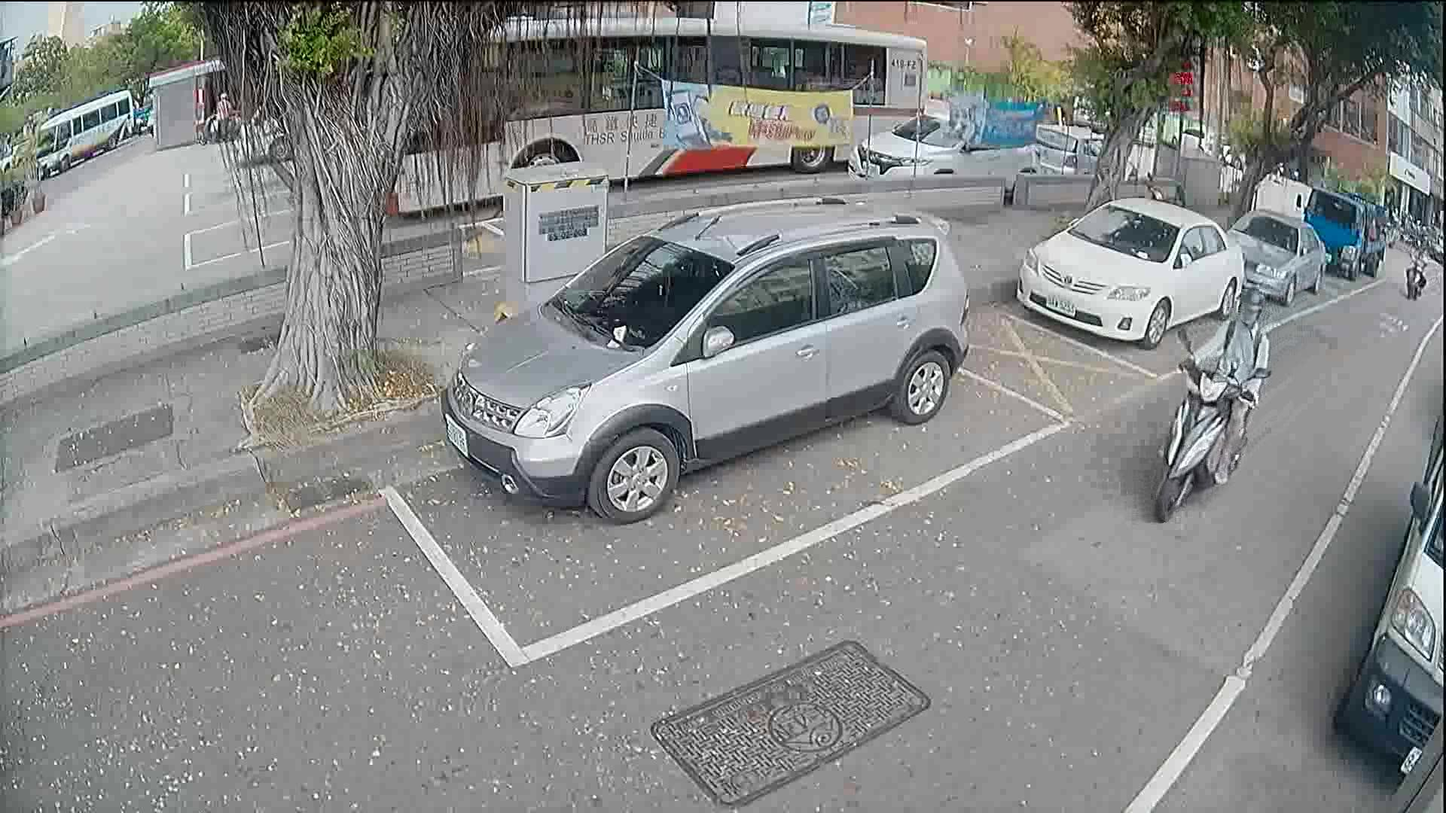person: (1156, 276, 1269, 488), (208, 85, 232, 143), (1403, 242, 1425, 288)
